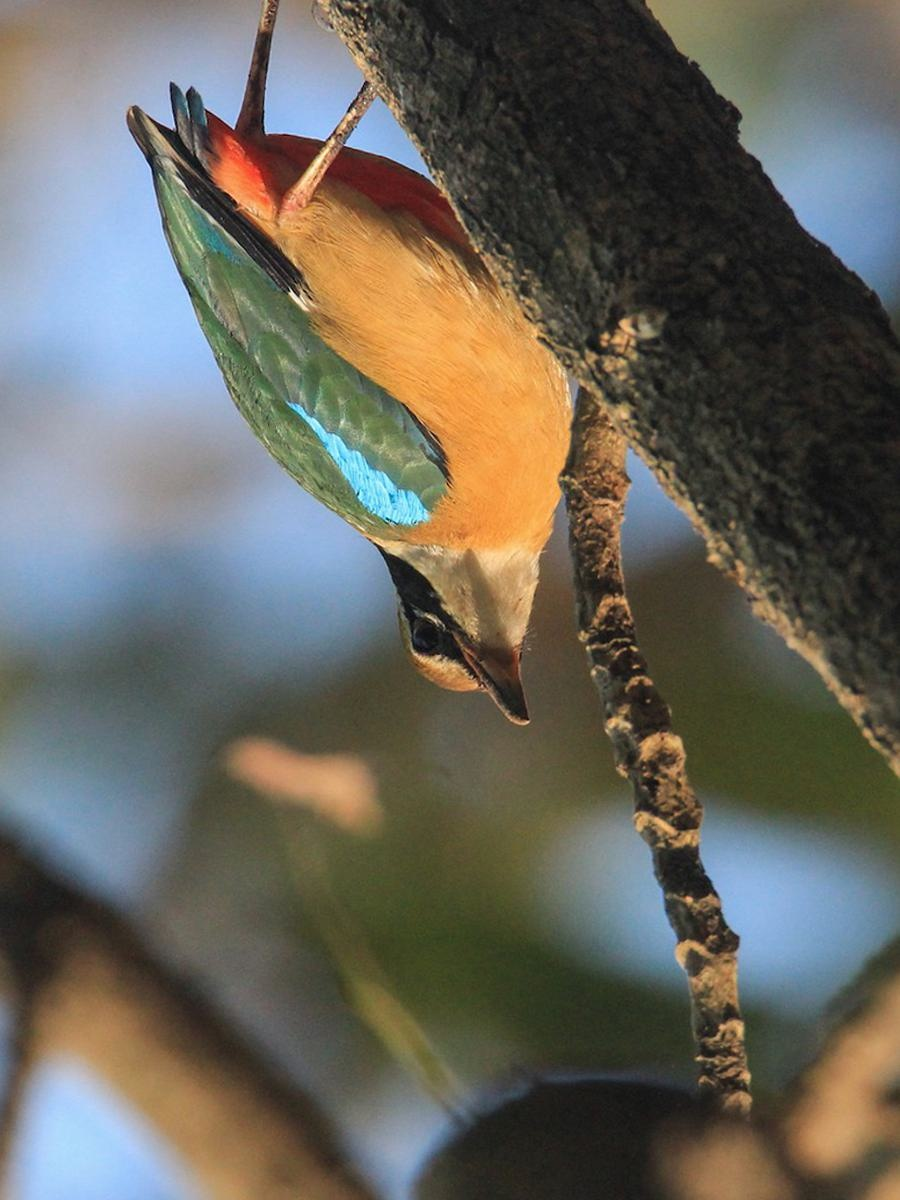pitta: (117, 40, 651, 759)
